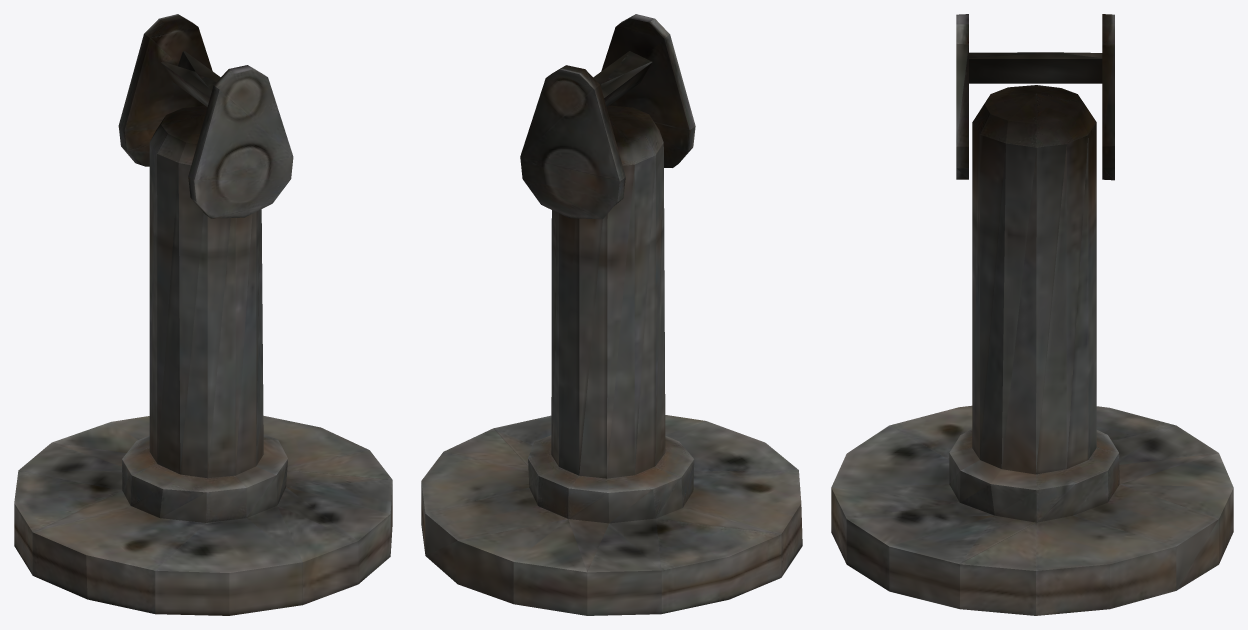
Rendered from car_m_gun_mount.glb.
The picture shows the model from 3 angles, left to right: view 1: azimuth 30°, elevation 25°; view 2: azimuth 150°, elevation 25°; view 3: azimuth 270°, elevation 25°; orthographic projection. The views are drawn at different scales.
Parts seen in each view (by area): view 1: geometry_0; view 2: geometry_0; view 3: geometry_0.
Part boxes in pixels (left/top/right/bottom): geometry_0: left=14, top=14, right=392, bottom=615; geometry_0: left=421, top=14, right=802, bottom=615; geometry_0: left=831, top=14, right=1233, bottom=615.
Size of the model in its own units: 0.2852 by 0.3965 by 0.2812.
1 material, 1 textured.
